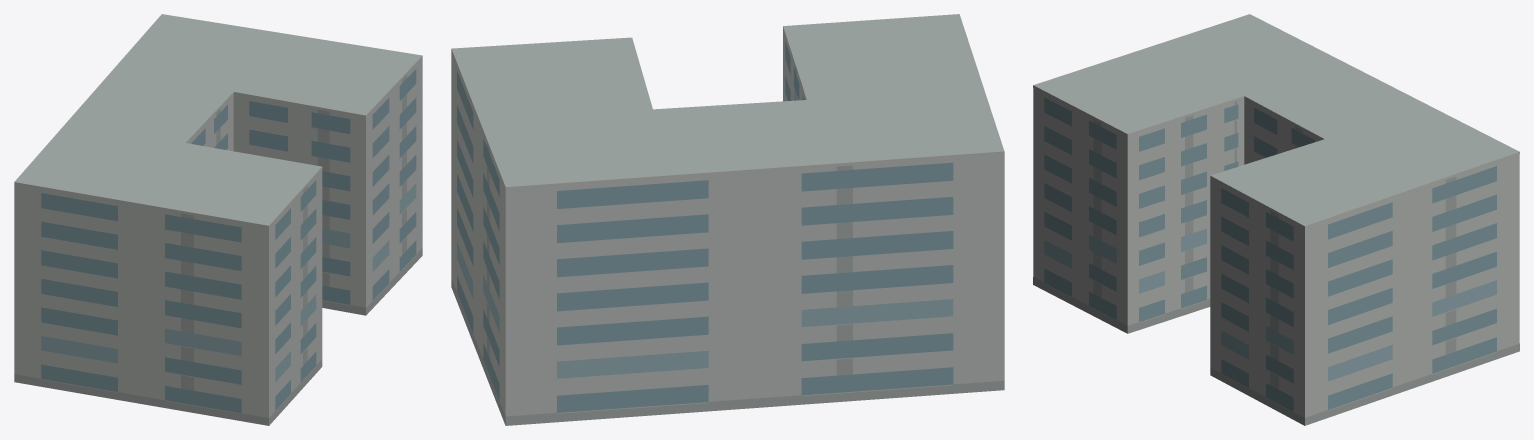
Rendered from survey-upis-33016038.glb.
3 views of the same model, side by side, from view 1: azimuth 30°, elevation 25°; view 2: azimuth 150°, elevation 25°; view 3: azimuth 270°, elevation 25° (orthographic). The views are drawn at different scales.
Visible parts, largest first — view 1: survey-upis-33016038.tmp; view 2: survey-upis-33016038.tmp; view 3: survey-upis-33016038.tmp.
Part boxes in pixels (left/top/right/bottom): survey-upis-33016038.tmp: left=14, top=14, right=422, bottom=425; survey-upis-33016038.tmp: left=451, top=14, right=1004, bottom=425; survey-upis-33016038.tmp: left=1033, top=14, right=1519, bottom=425.
Size of the model in its own units: 43.56 by 19.1 by 42.19.
